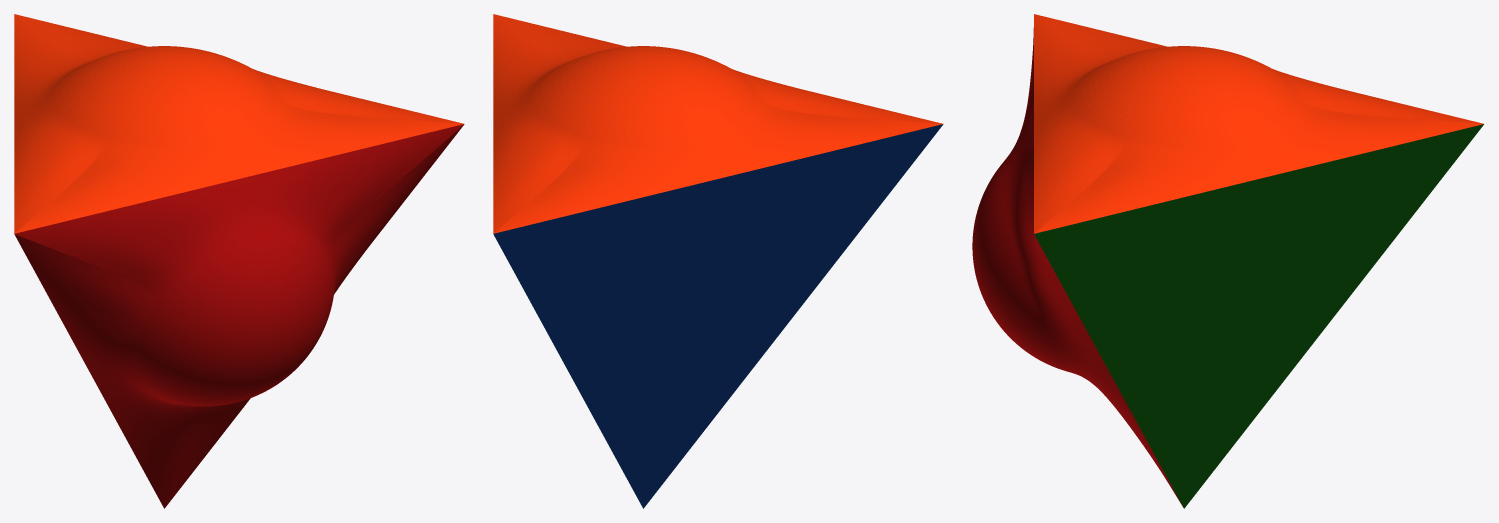
Rendered from 2_3_0_0_tetrahedron.obj.
3 views of the same model, side by side, from view 1: azimuth 30°, elevation 25°; view 2: azimuth 150°, elevation 25°; view 3: azimuth 270°, elevation 25° (orthographic).
Parts seen in each view (by area): view 1: Level_3_-_level_3_front_Level_3_-_level_3_front.001, Level_2_-_level_2_top_Level_2_-_level_2_top.001; view 2: Level_0_-_level_0_left, Level_2_-_level_2_top_Level_2_-_level_2_top.001; view 3: Level_0_-_level_0_right, Level_2_-_level_2_top_Level_2_-_level_2_top.001, Level_3_-_level_3_front_Level_3_-_level_3_front.001.
Boxes of the visible parts, <box> form: Level_3_-_level_3_front_Level_3_-_level_3_front.001: <box>14,124,464,508</box>; Level_2_-_level_2_top_Level_2_-_level_2_top.001: <box>14,14,463,233</box>; Level_0_-_level_0_left: <box>493,124,943,508</box>; Level_2_-_level_2_top_Level_2_-_level_2_top.001: <box>493,14,942,233</box>; Level_0_-_level_0_right: <box>1034,124,1483,508</box>; Level_2_-_level_2_top_Level_2_-_level_2_top.001: <box>1034,14,1483,233</box>; Level_3_-_level_3_front_Level_3_-_level_3_front.001: <box>972,28,1182,506</box>.
Bounding box in the file's own units: 0.1 × 0.0946 × 0.0984.
